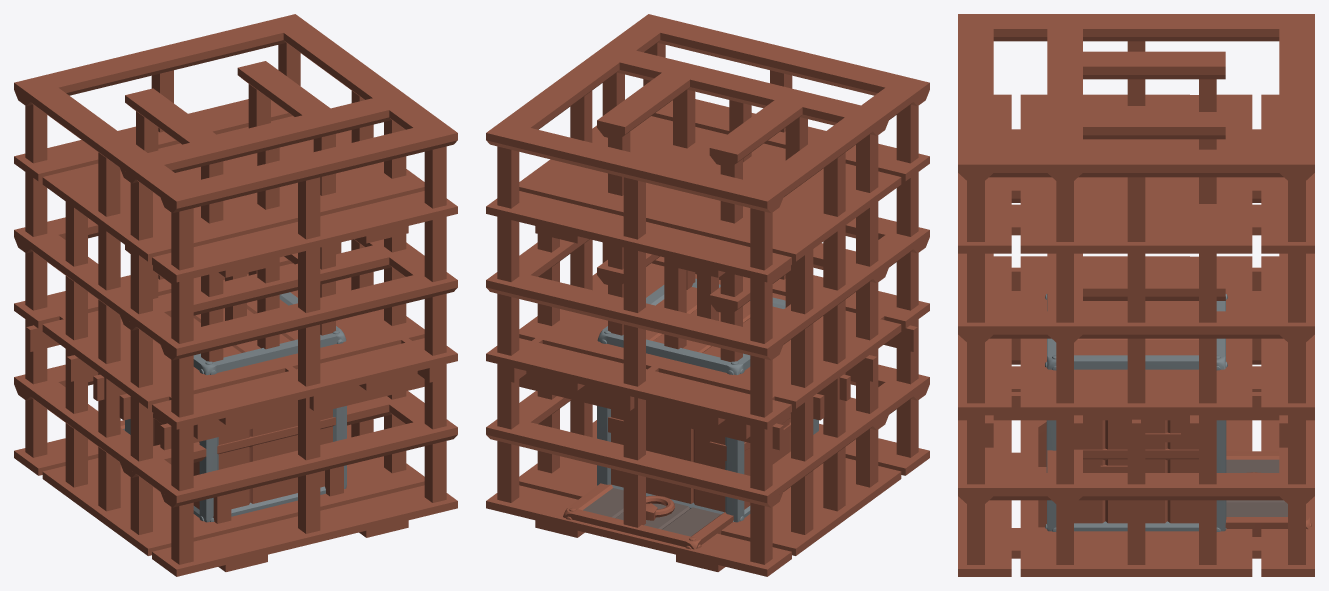
The model's file is TahtalarYeni.fbx.
3 views of the same model, side by side, from view 1: azimuth 30°, elevation 25°; view 2: azimuth 150°, elevation 25°; view 3: azimuth 270°, elevation 25° (orthographic). The views are drawn at different scales.
Visible parts, largest first — view 1: scaffold_high_cornerRight, scaffold_high_cornerBoth, scaffold_medium_cornerRight, scaffold_small_high_railing_long, scaffold_low_cornerRight, scaffold_low, scaffold_high_railing, scaffold_medium, cratePlatform_large, scaffold_medium_cornerBoth, scaffold_small_high_cornerRight, scaffold_small_medium_railing_long (+14 smaller); view 2: scaffold_high_cornerBoth, scaffold_high_cornerRight, scaffold_high_railing, scaffold_small_high_railing_long, scaffold_medium, scaffold_low_cornerRight, scaffold_medium_cornerRight, scaffold_medium_cornerBoth, scaffold_small_high_cornerRight, cratePlatform_large, scaffold_low_cornerBoth, scaffold_low (+15 smaller); view 3: scaffold_high_cornerBoth, scaffold_high_railing, scaffold_medium, scaffold_small_high_railing_long, cratePlatform_large, scaffold_low, scaffold_low_cornerBoth, scaffold_medium_cornerBoth, scaffold_high_cornerRight, scaffold_medium_cornerRight, scaffold_small_high_cornerRight, scaffold_small_medium_long (+16 smaller).
Boxes of the visible parts, bbox=[...] form: scaffold_high_cornerRight: bbox=[14, 83, 457, 564]; scaffold_high_cornerBoth: bbox=[14, 14, 457, 543]; scaffold_medium_cornerRight: bbox=[14, 229, 457, 562]; scaffold_small_high_railing_long: bbox=[65, 98, 406, 530]; scaffold_low_cornerRight: bbox=[14, 377, 457, 576]; scaffold_low: bbox=[14, 432, 457, 571]; scaffold_high_railing: bbox=[28, 33, 457, 561]; scaffold_medium: bbox=[43, 260, 457, 561]; cratePlatform_large: bbox=[125, 292, 346, 522]; scaffold_medium_cornerBoth: bbox=[14, 217, 457, 560]; scaffold_small_high_cornerRight: bbox=[125, 88, 346, 321]; scaffold_small_medium_railing_long: bbox=[120, 242, 416, 387]; scaffold_high_cornerBoth: bbox=[486, 14, 929, 554]; scaffold_high_cornerRight: bbox=[486, 43, 929, 564]; scaffold_high_railing: bbox=[487, 33, 916, 564]; scaffold_small_high_railing_long: bbox=[537, 50, 888, 534]; scaffold_medium: bbox=[493, 256, 917, 564]; scaffold_low_cornerRight: bbox=[486, 364, 929, 576]; scaffold_medium_cornerRight: bbox=[486, 219, 929, 502]; scaffold_medium_cornerBoth: bbox=[486, 217, 929, 562]; scaffold_small_high_cornerRight: bbox=[608, 61, 818, 361]; cratePlatform_large: bbox=[597, 278, 818, 522]; scaffold_low_cornerBoth: bbox=[486, 365, 929, 549]; scaffold_low: bbox=[486, 424, 927, 576]; scaffold_high_cornerBoth: bbox=[958, 14, 1314, 545]; scaffold_high_railing: bbox=[958, 129, 1314, 564]; scaffold_medium: bbox=[958, 256, 1314, 564]; scaffold_small_high_railing_long: bbox=[1047, 14, 1225, 564]; cratePlatform_large: bbox=[1045, 294, 1227, 531]; scaffold_low: bbox=[958, 420, 1314, 576]; scaffold_low_cornerBoth: bbox=[958, 420, 1314, 564]; scaffold_medium_cornerBoth: bbox=[958, 253, 1314, 564]; scaffold_high_cornerRight: bbox=[958, 14, 1287, 423]; scaffold_medium_cornerRight: bbox=[958, 177, 1314, 407]; scaffold_small_high_cornerRight: bbox=[1047, 51, 1225, 207]; scaffold_small_medium_long: bbox=[1047, 256, 1225, 564].
Size of the model in its own units: 400 by 563 by 400.
